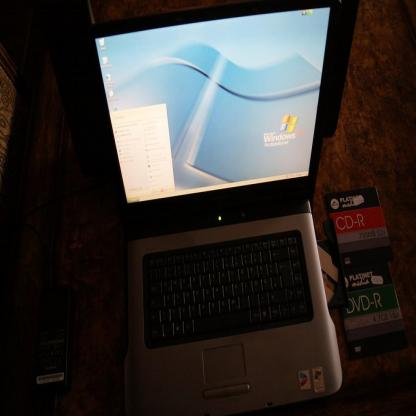board: (88, 0, 343, 415)
